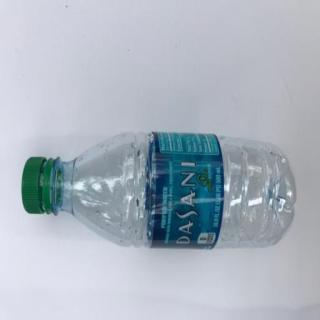Plastic-bottle: (21, 129, 299, 255)
